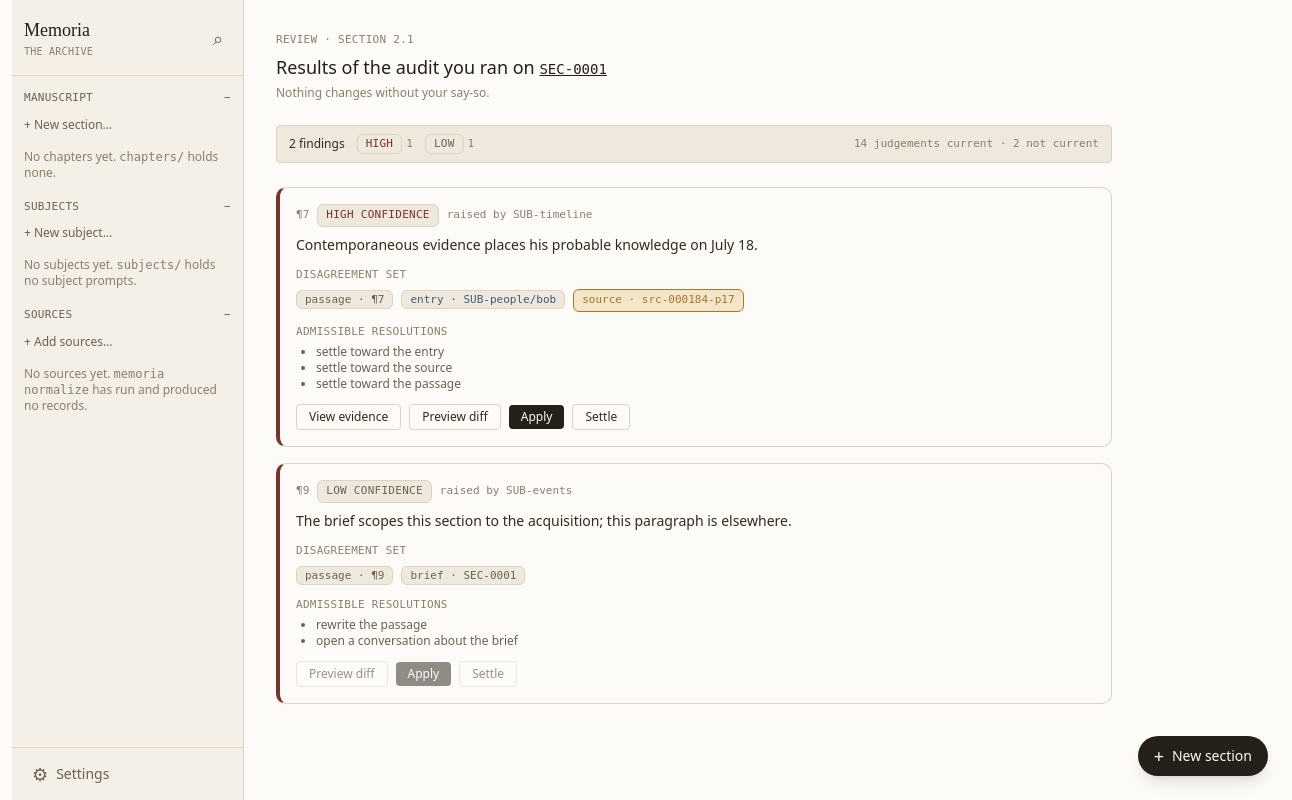
Test case: the Review surface › shows the server's reason when a settlement is refused
The width and height of the screenshot is (1292, 800).
expect the text "Contemporaneous evidence places" is shown: met, box top-left (296, 235), bottom-right (758, 254)
Step 1. Click the button "Settle" below "SUB-timeline" → x=601, y=417, box top-left (572, 404), bottom-right (630, 430)
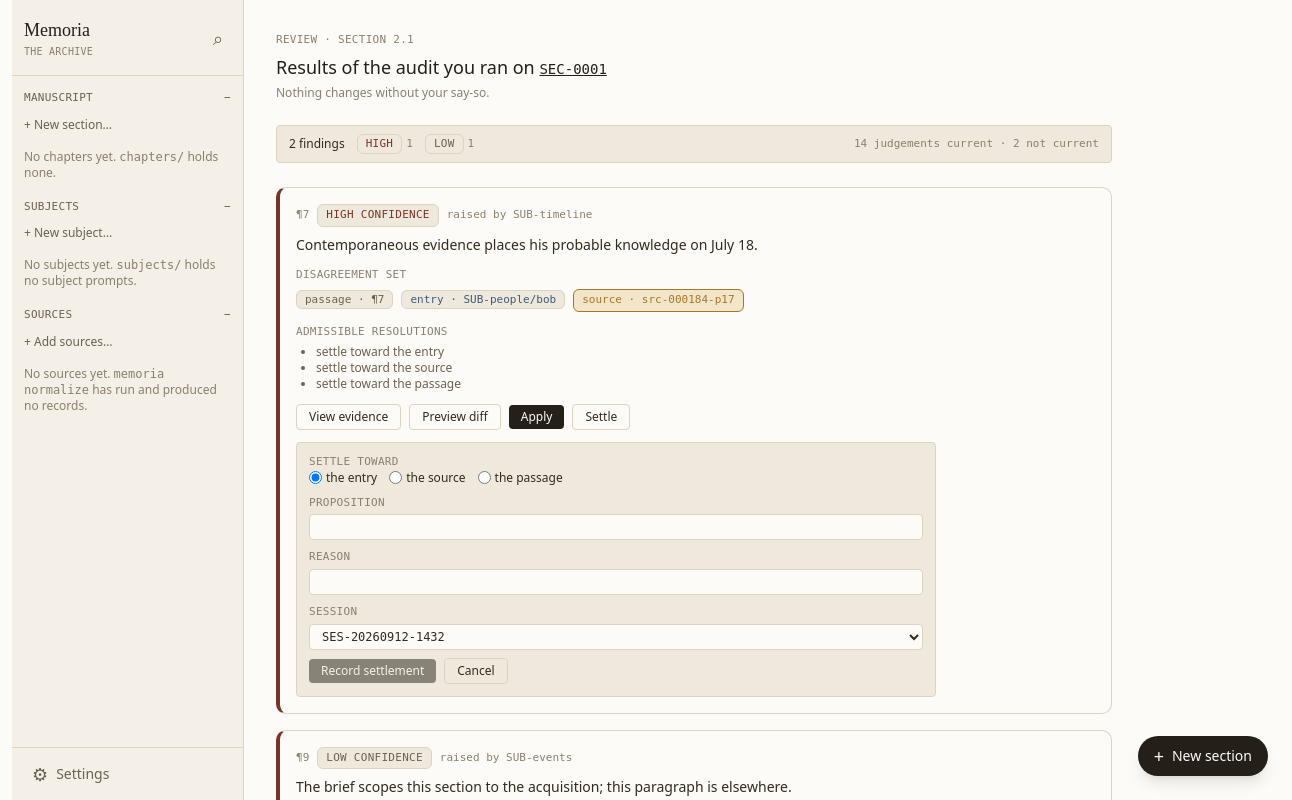
Step 2. Type "knew by July 18" into the field labelled "Proposition" → x=616, y=528, box top-left (309, 514), bottom-right (923, 540)
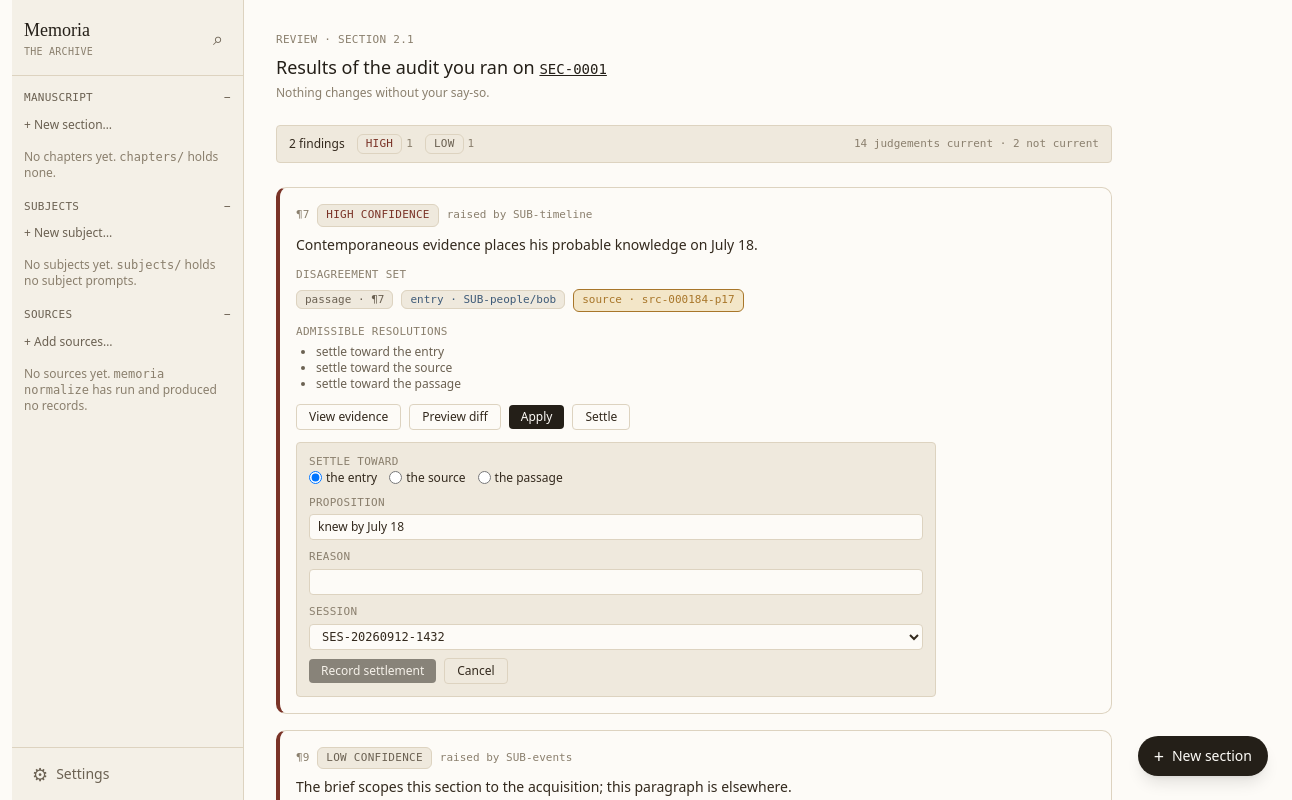
Step 3. Type "x" into the field labelled "Reason" → x=616, y=582, box top-left (309, 569), bottom-right (923, 595)
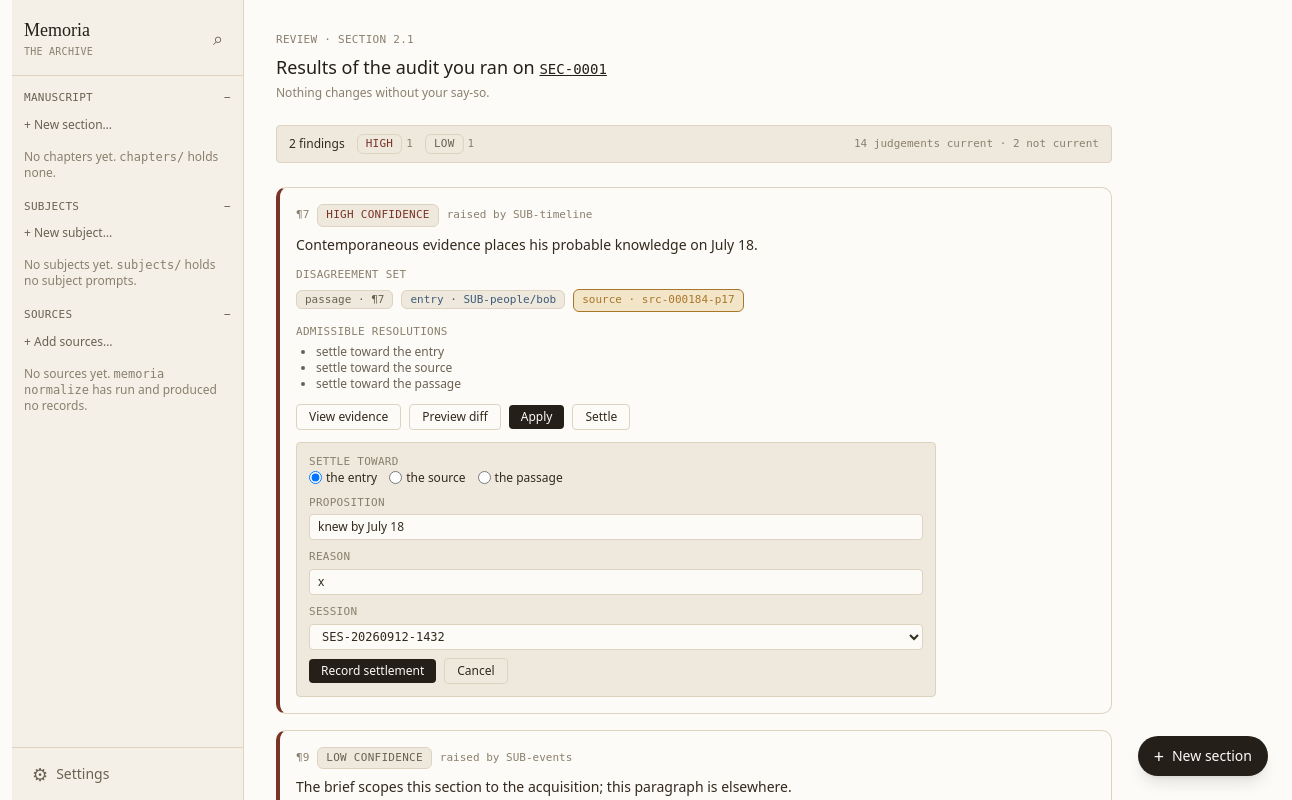
Step 4. Click the button "Record settlement" → x=373, y=671, box top-left (309, 659), bottom-right (436, 683)
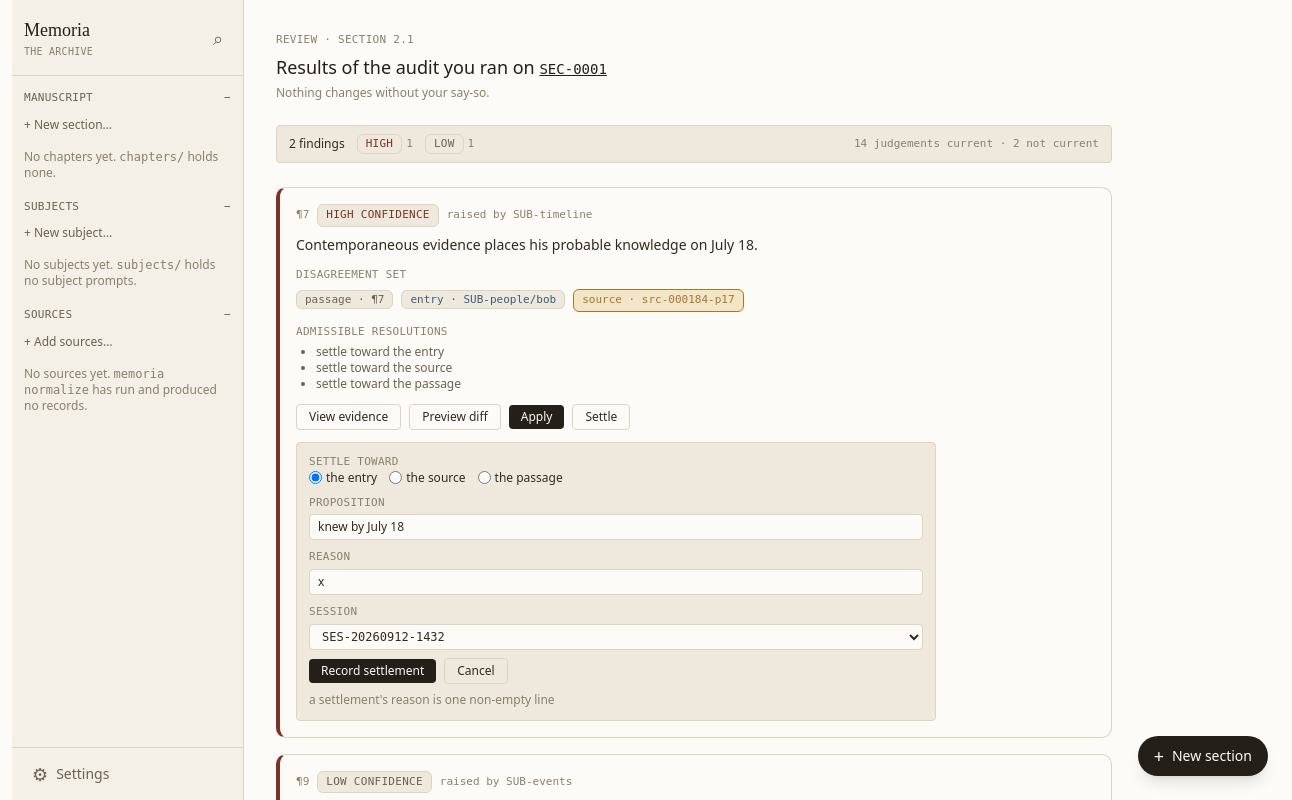
expect the text "a settlement's reason is one non-empty line" is shown: met, box top-left (309, 691), bottom-right (555, 708)
